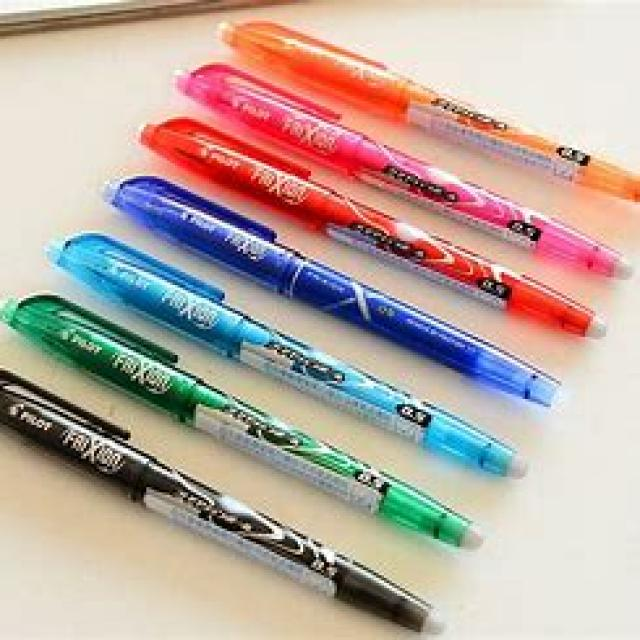pen: (2, 9, 640, 634)
